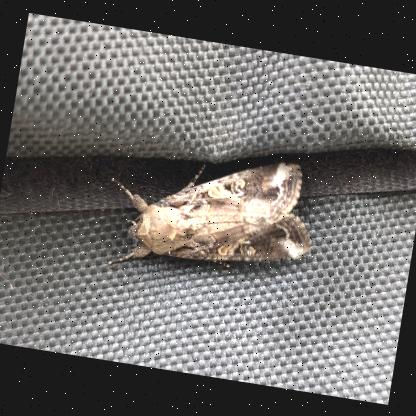Fall Armyworm Moth: (94, 130, 327, 303)
